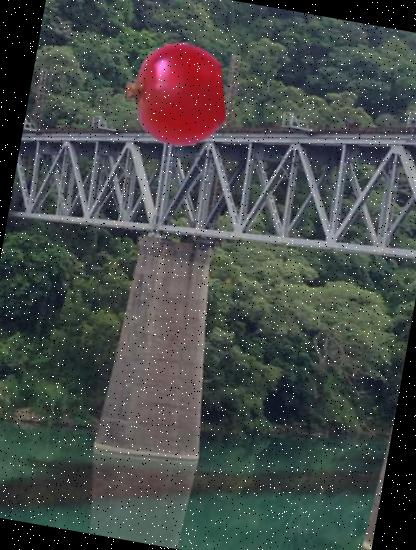Redcurrant: (115, 36, 234, 154)
